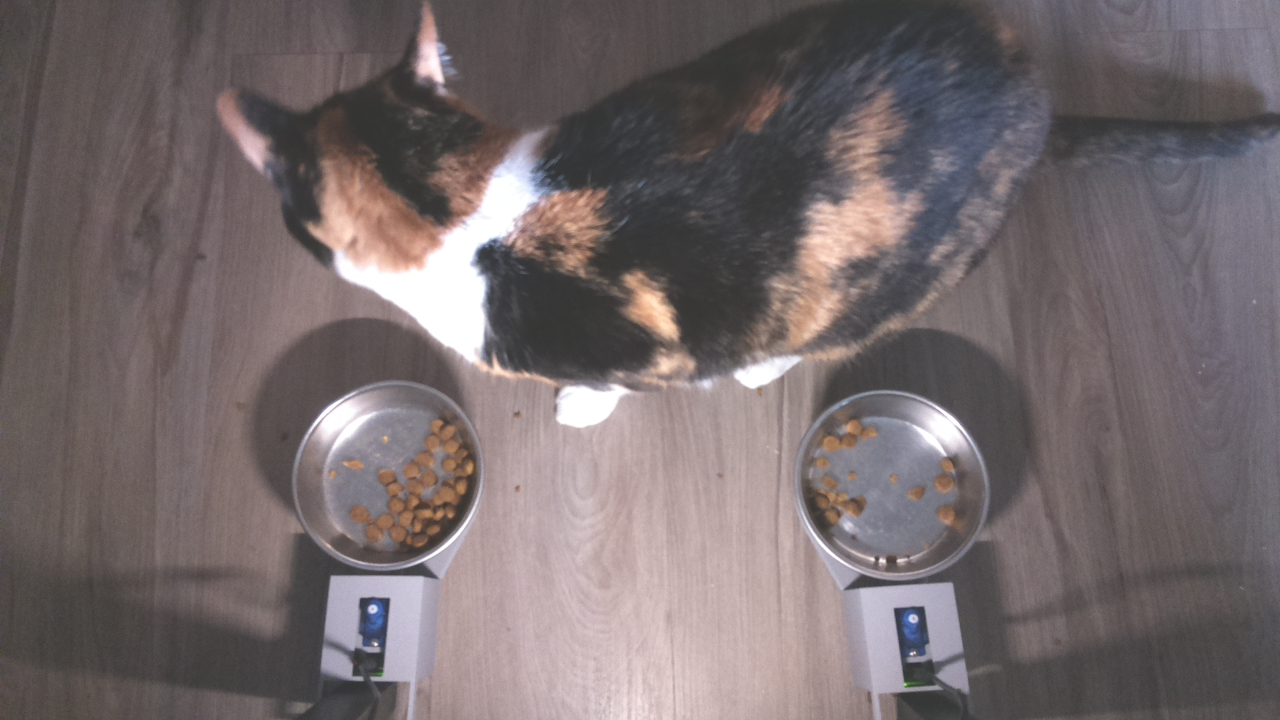bella: (200, 4, 532, 300)
open_bowl: (286, 379, 485, 573), (797, 386, 991, 583)
